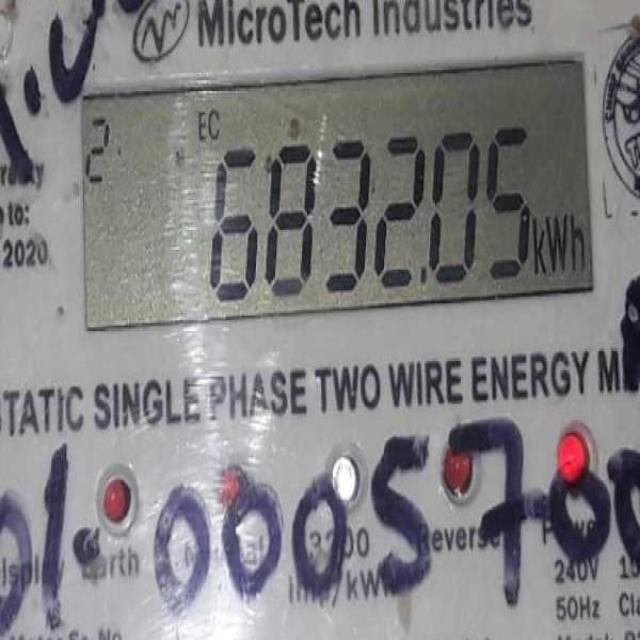0: (428, 124, 482, 288)
2: (371, 123, 423, 295)
3: (319, 130, 371, 299)
4: (83, 81, 594, 312)
5: (483, 121, 536, 292)
6: (205, 137, 259, 303)
8: (258, 130, 320, 301)
point: (414, 263, 432, 292)
